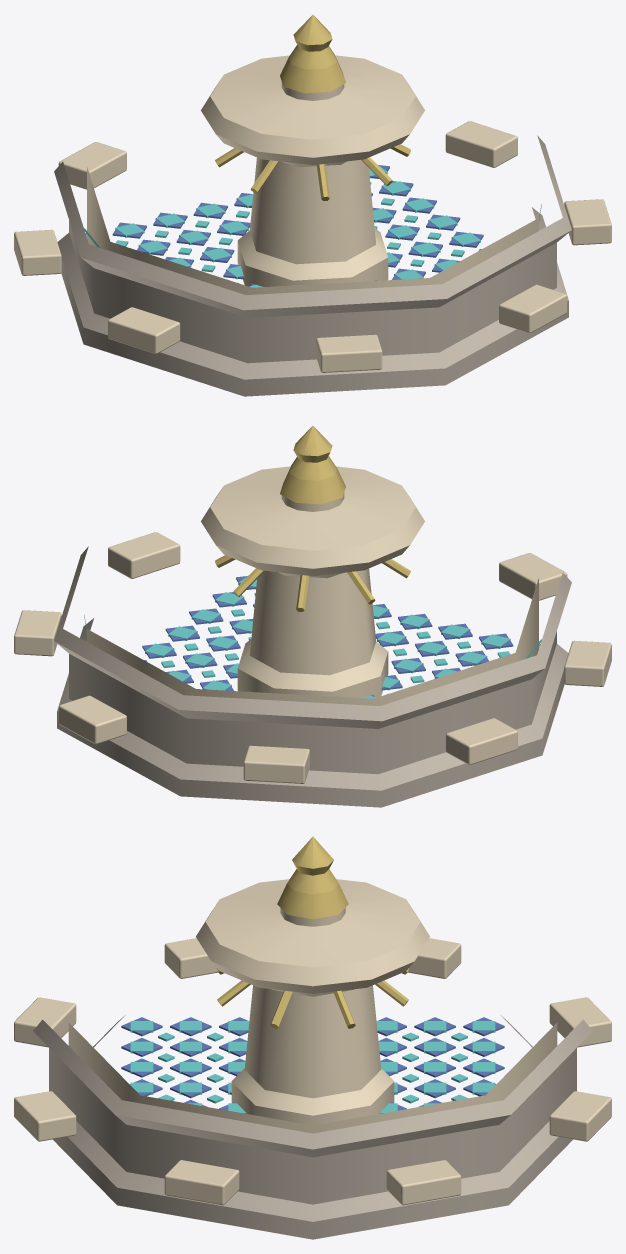
Rendered from ablution-fountain-5d06d639.glb.
3 views of the same model, one above another, from view 1: azimuth 30°, elevation 25°; view 2: azimuth 150°, elevation 25°; view 3: azimuth 270°, elevation 25° (orthographic). The views are drawn at different scales.
Visible parts, largest first — view 1: ablution-fountain; view 2: ablution-fountain; view 3: ablution-fountain.
Boxes of the visible parts, <box> form: ablution-fountain: <box>14,15,611,396</box>; ablution-fountain: <box>14,426,611,807</box>; ablution-fountain: <box>14,836,611,1239</box>.
Size of the model in its own units: 3.67 by 1.94 by 3.67.
